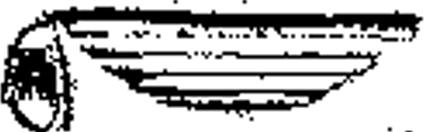Basket: (9, 5, 413, 126)
